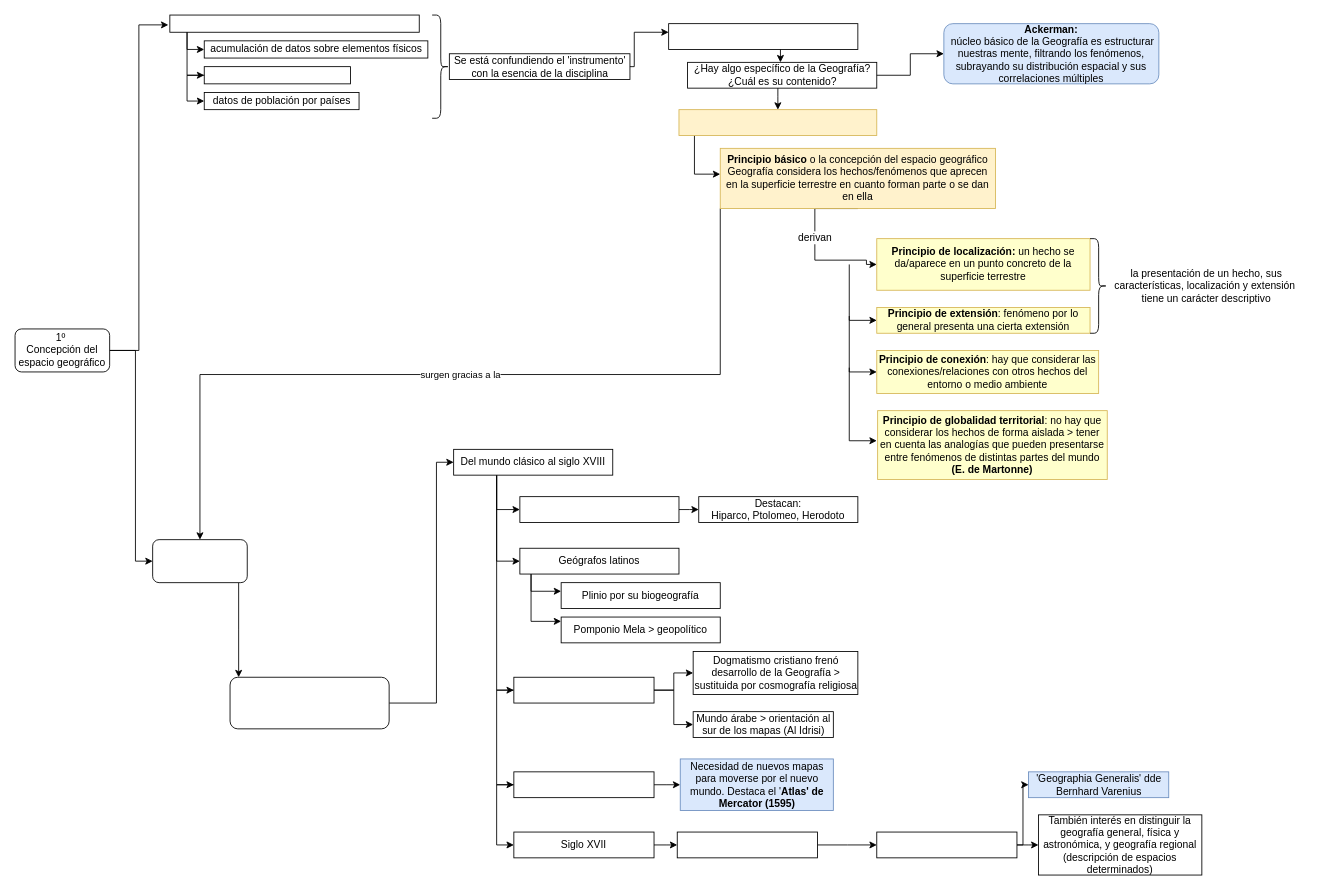
The diagram is 1320 pixels wide and 891 high, and some of its shapes have lost their labels. Here are the shapes that lost their labels. From the top down, the centre of each, then its label:
At (294,23): "Actualidad se relaciona el trabajo del geógrafo con:".
At (763,36): "Si el estudio geográfico del espacio requiere estudios de otras disciplinas".
At (276,75): "elaborar e interpretar mapas".
At (777,122): "Congresos actuales aún debaten por los Principios geográficos".
At (599,509): "Griegos dieron nombre a la geografía".
At (199,561): "Evolución temporal de la disciplina".
At (309,702): "Tres grandes períodos de la historia de la geografía".
At (583,689): "Edad Media".
At (583,784): "Renacimiento".
At (746,844): "Triunfo del heliocentrismo en la revolución científica".
At (946,844): "Necesidad de escribir una nueva Geografía".
